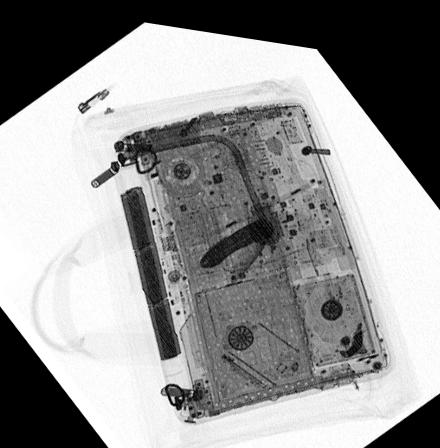Knife: (195, 204, 276, 280)
